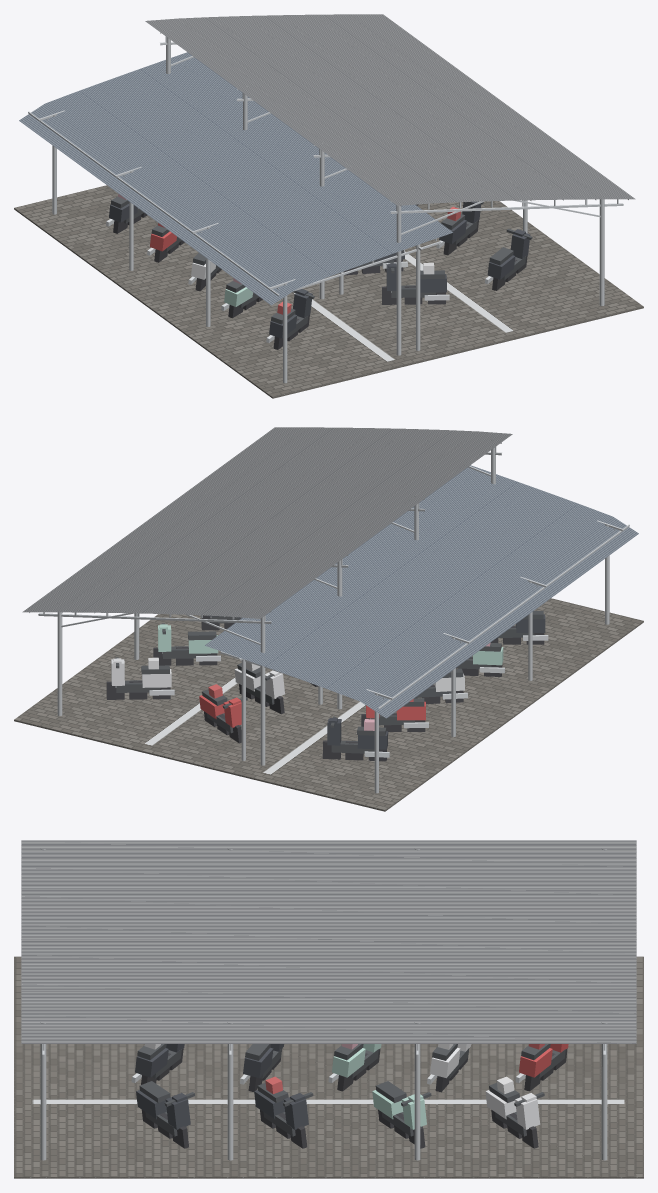
File: parkiran_motor.glb
3 views of the same model, one above another, from view 1: azimuth 30°, elevation 25°; view 2: azimuth 150°, elevation 25°; view 3: azimuth 270°, elevation 25° (orthographic). The views are drawn at different scales.
Visible parts, largest first — view 1: Atap_Kanopi_Kiri_Rendah, Lantai_Paving_Marka, Atap_Kanopi_Kanan_Tinggi, Rangka_Tiang_Baja_Galvanis, Body_Motor_Hitam, Jok_Dan_Stang_Motor, Ban_Karet_Motor, Knalpot_Dan_Suspensi; view 2: Atap_Kanopi_Kiri_Rendah, Atap_Kanopi_Kanan_Tinggi, Lantai_Paving_Marka, Rangka_Tiang_Baja_Galvanis, Jok_Dan_Stang_Motor, Ban_Karet_Motor, Body_Motor_Putih, Body_Motor_Merah, Body_Motor_Hitam, Body_Motor_Mint, Knalpot_Dan_Suspensi; view 3: Atap_Kanopi_Kanan_Tinggi, Lantai_Paving_Marka, Jok_Dan_Stang_Motor, Body_Motor_Hitam, Ban_Karet_Motor, Rangka_Tiang_Baja_Galvanis, Body_Motor_Putih, Body_Motor_Mint, Body_Motor_Merah.
Part boxes in pixels (x1,y1,x2,y2): Atap_Kanopi_Kiri_Rendah: (19,52,452,305); Lantai_Paving_Marka: (14,185,643,398); Atap_Kanopi_Kanan_Tinggi: (145,14,635,205); Rangka_Tiang_Baja_Galvanis: (28,30,628,383); Body_Motor_Hitam: (109,201,530,338); Jok_Dan_Stang_Motor: (110,196,532,337); Ban_Karet_Motor: (113,204,527,349); Knalpot_Dan_Suspensi: (106,219,493,342); Atap_Kanopi_Kiri_Rendah: (205,465,638,718); Atap_Kanopi_Kanan_Tinggi: (22,427,512,618); Lantai_Paving_Marka: (14,598,643,811); Rangka_Tiang_Baja_Galvanis: (29,440,629,793); Jok_Dan_Stang_Motor: (115,610,543,753); Ban_Karet_Motor: (106,615,544,761); Body_Motor_Putih: (111,658,464,699); Body_Motor_Merah: (199,695,425,727); Body_Motor_Hitam: (207,614,545,749); Body_Motor_Mint: (158,624,503,665); Knalpot_Dan_Suspensi: (115,616,548,757); Atap_Kanopi_Kanan_Tinggi: (21,840,636,1043); Lantai_Paving_Marka: (14,956,643,1178); Jok_Dan_Stang_Motor: (137,1044,565,1136); Body_Motor_Hitam: (135,1044,308,1129); Ban_Karet_Motor: (141,1048,567,1148); Rangka_Tiang_Baja_Galvanis: (40,849,607,1160); Body_Motor_Putih: (430,1044,540,1129); Body_Motor_Mint: (332,1044,426,1129); Body_Motor_Merah: (519,1044,568,1077).
Size of the model in its own units: 10.6 by 4.35 by 12.8.
Materials: 14 (3 with a texture image).
